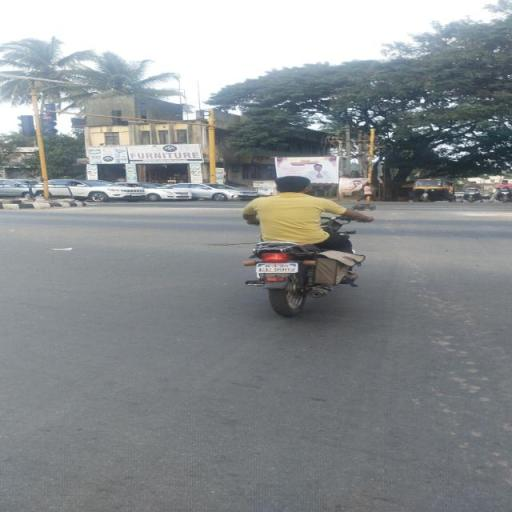bike: (232, 172, 382, 319)
numberplate: (256, 262, 298, 274)
withouthelmet: (276, 176, 309, 192)
